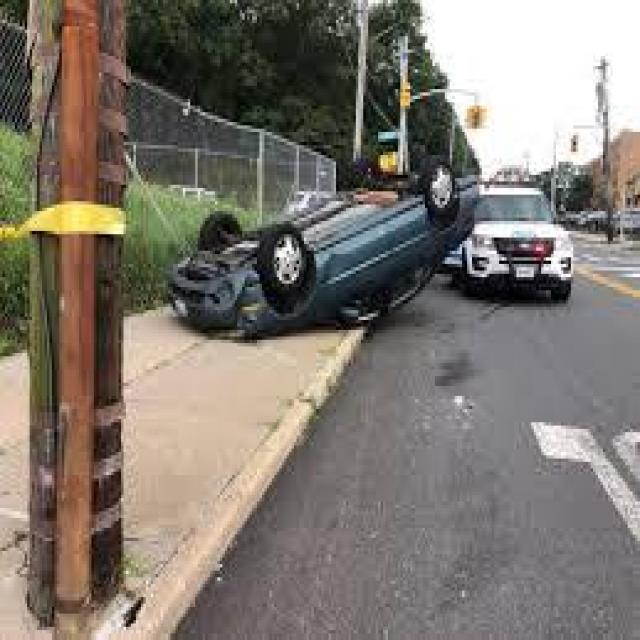accident: (162, 152, 480, 340)
